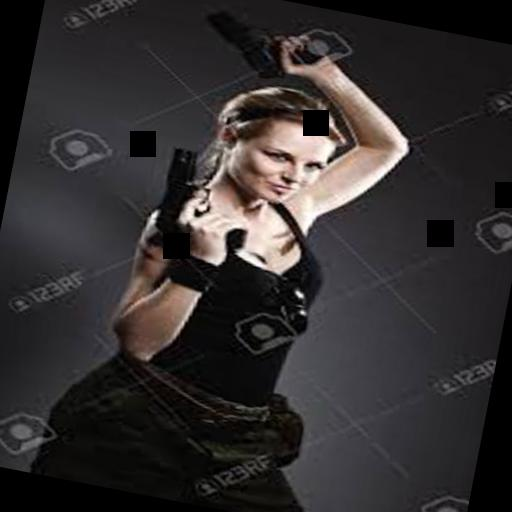Handgun: (190, 0, 334, 89), (152, 142, 258, 252)
